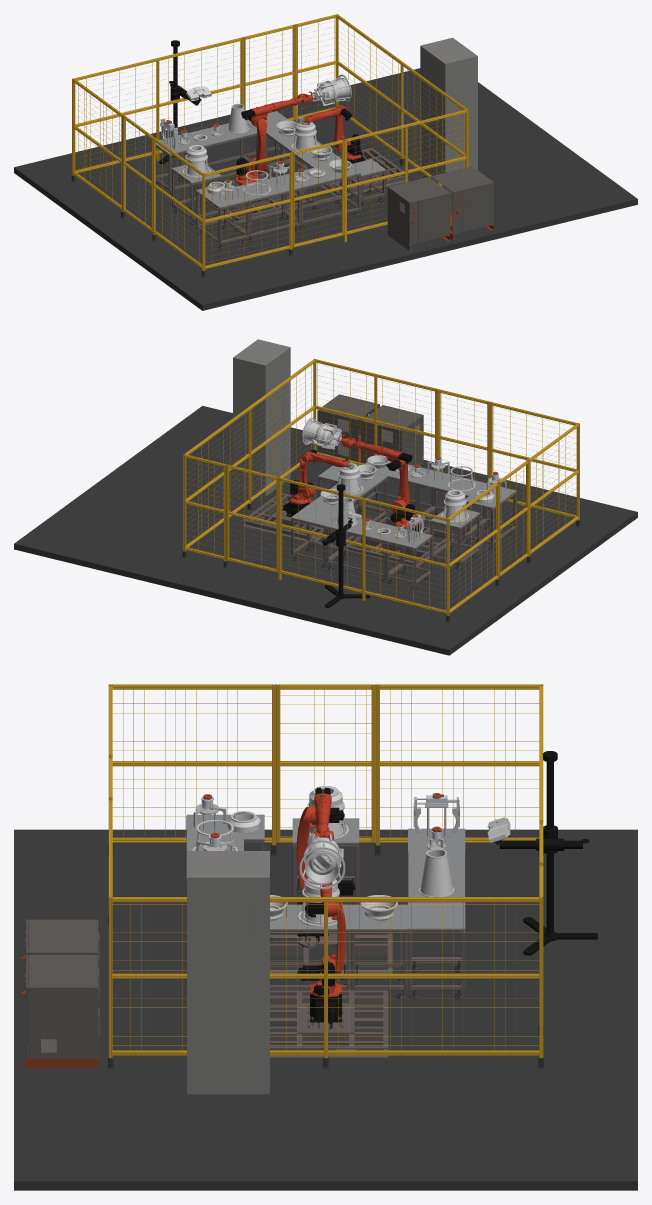
3 renders of one model, top to bottom at view 1: azimuth 30°, elevation 25°; view 2: azimuth 150°, elevation 25°; view 3: azimuth 270°, elevation 25°, orthographic. The views are drawn at different scales.
Parts seen in each view (by area): view 1: ground, Fencing, ElectricalCabinet, RobotControlCabinet, Brackets, Desktop, Robot_S_ground, Positioning, Robot_B_joint2, KZD, 凸台-拉伸4; view 2: ground, Fencing, ElectricalCabinet, Brackets, RobotControlCabinet, Desktop, 凸台-拉伸4, Robot_S_ground, Positioning; view 3: ground, Fencing, ElectricalCabinet, Brackets, RobotControlCabinet, Desktop, Robot_S_ground, 凸台-拉伸4, KZD, RobotControlCabinetButtons, Robot_S_buttom, Robot_B_joint2 (+2 smaller).
Part boxes in pixels (<box>): ground: <box>14,68,637,310</box>; Fencing: <box>72,14,468,270</box>; ElectricalCabinet: <box>420,37,477,178</box>; RobotControlCabinet: <box>387,166,493,250</box>; Brackets: <box>156,133,409,244</box>; Desktop: <box>156,111,385,207</box>; Robot_S_ground: <box>303,149,402,195</box>; Positioning: <box>163,125,326,200</box>; Robot_B_joint2: <box>254,118,266,175</box>; KZD: <box>227,103,248,133</box>; 凸台-拉伸4: <box>159,40,186,163</box>; ground: <box>14,405,637,655</box>; Fencing: <box>183,358,579,615</box>; ElectricalCabinet: <box>233,339,290,496</box>; Brackets: <box>242,476,516,584</box>; RobotControlCabinet: <box>317,394,423,465</box>; Desktop: <box>291,461,516,548</box>; 凸台-拉伸4: <box>324,484,369,607</box>; Robot_S_ground: <box>249,494,329,541</box>; Positioning: <box>334,462,501,542</box>; ground: <box>14,829,637,1190</box>; Fencing: <box>32,684,543,1057</box>; ElectricalCabinet: <box>187,851,269,1094</box>; Brackets: <box>186,816,465,1057</box>; RobotControlCabinet: <box>26,919,99,1058</box>; Desktop: <box>186,814,465,929</box>; Robot_S_ground: <box>270,990,388,1050</box>; 凸台-拉伸4: <box>523,751,597,955</box>; KZD: <box>419,848,454,896</box>; RobotControlCabinetButtons: <box>21,932,98,1067</box>; Robot_S_buttom: <box>310,994,341,1029</box>; Robot_B_joint2: <box>296,807,314,890</box>.
Bounding box in the file's own units: 8 × 2.4 × 6.
